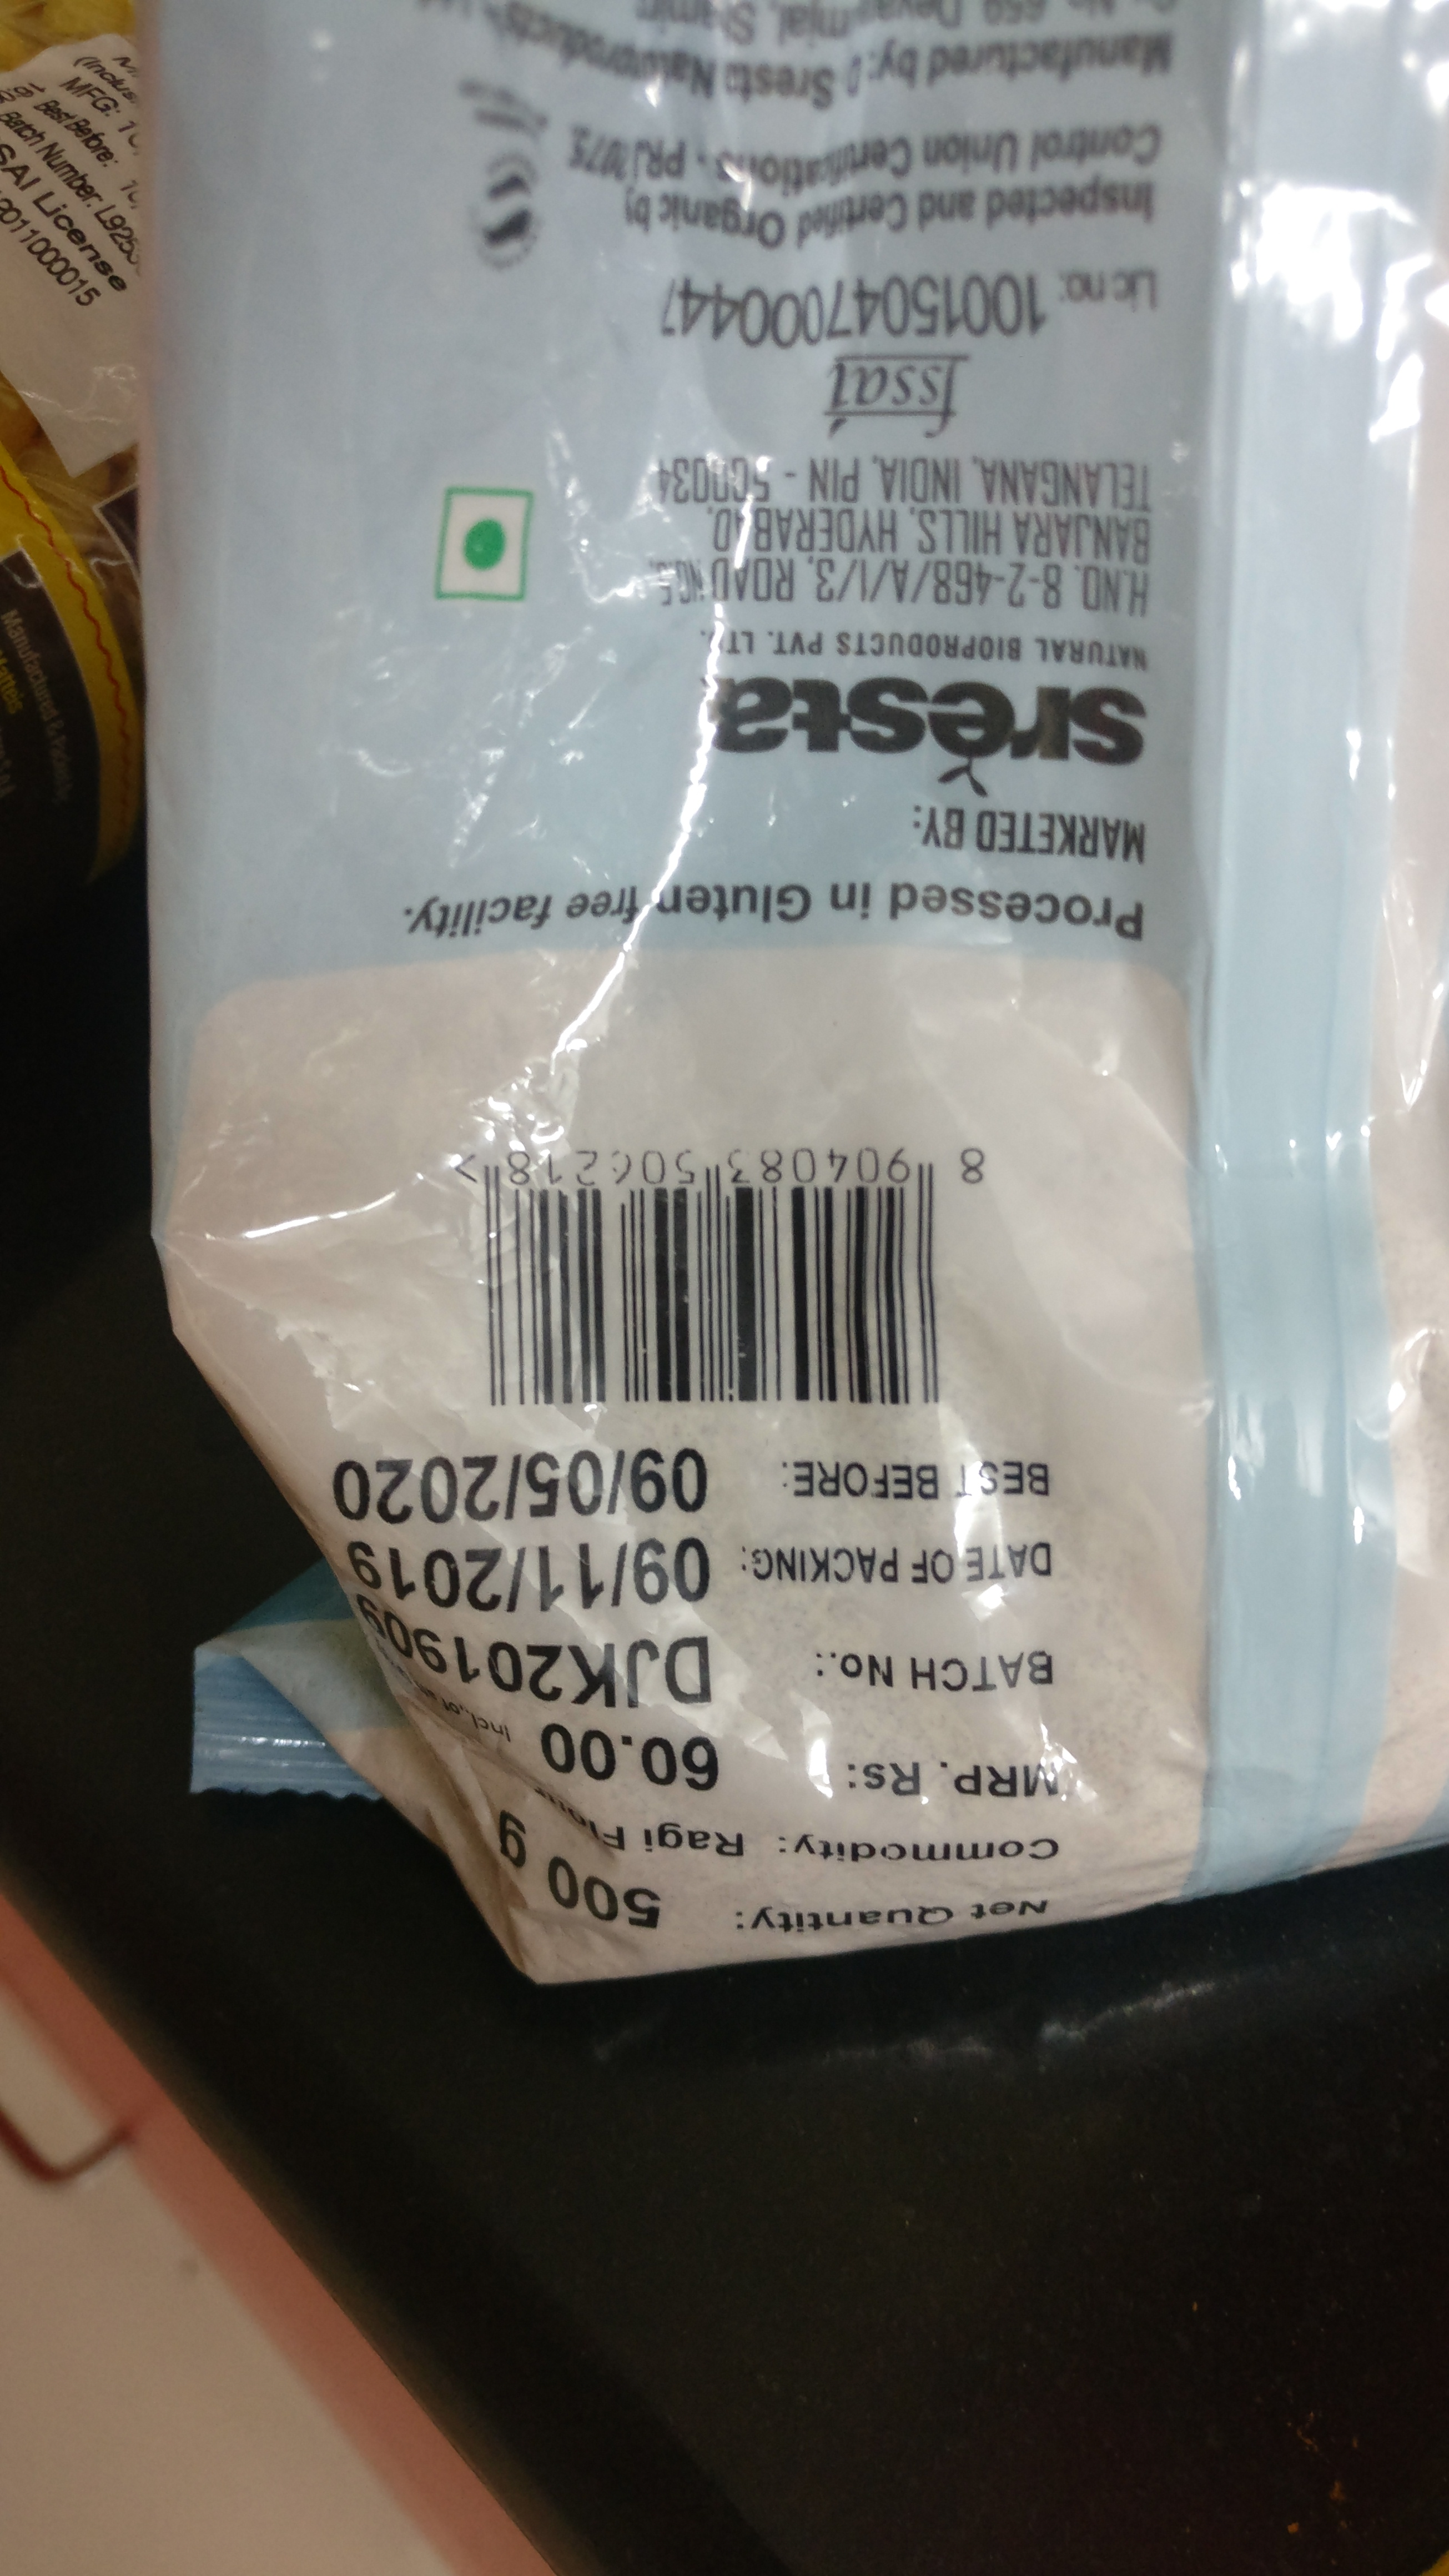barcode: (465, 1122, 984, 1430)
